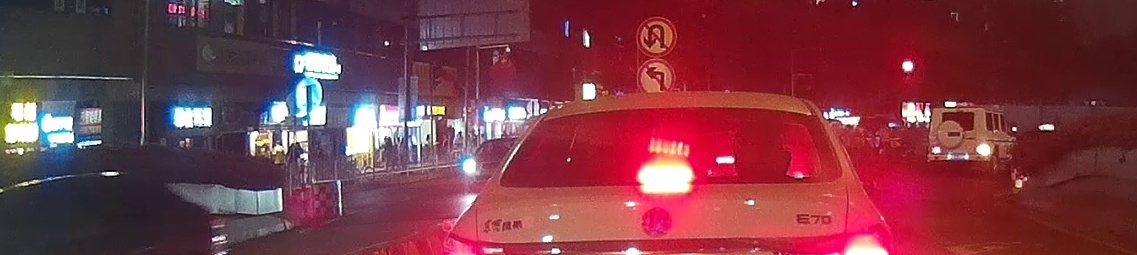L_light: (931, 145, 947, 156)
R_light: (972, 144, 990, 155)
T_light: (950, 109, 964, 115)
night-right: (926, 106, 992, 175)
